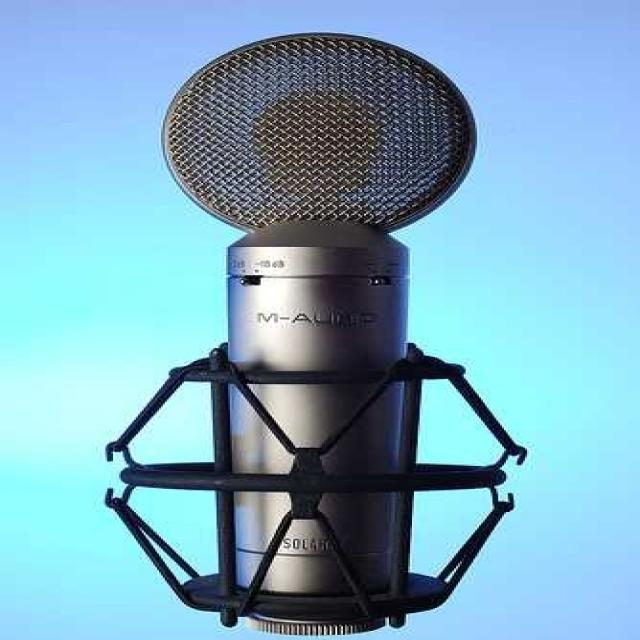microphone: (35, 42, 585, 624)
